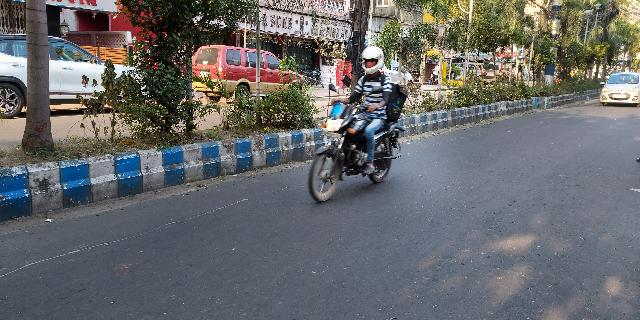Car: (597, 69, 639, 106)
Motorbike: (305, 48, 399, 207)
